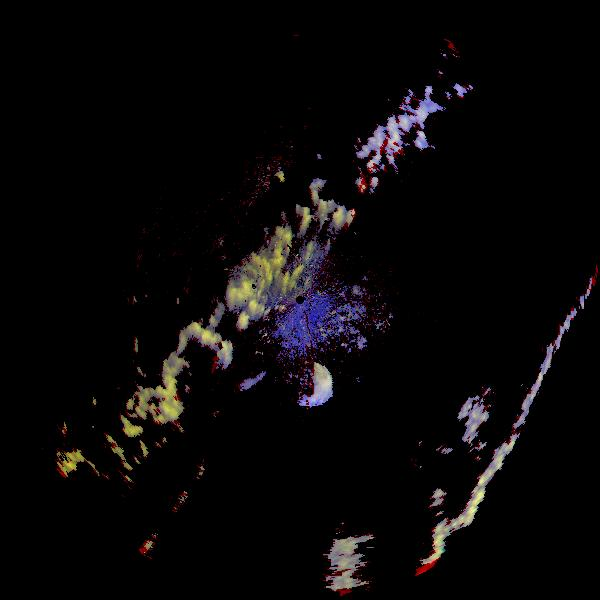roost: (285, 358, 339, 412), (268, 169, 286, 187)
